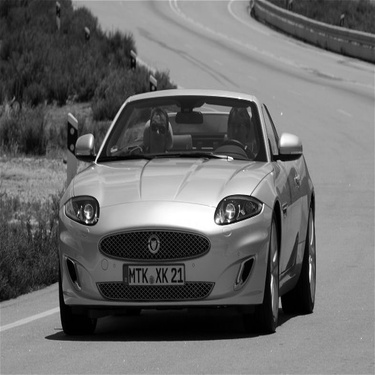car: (34, 84, 327, 338)
